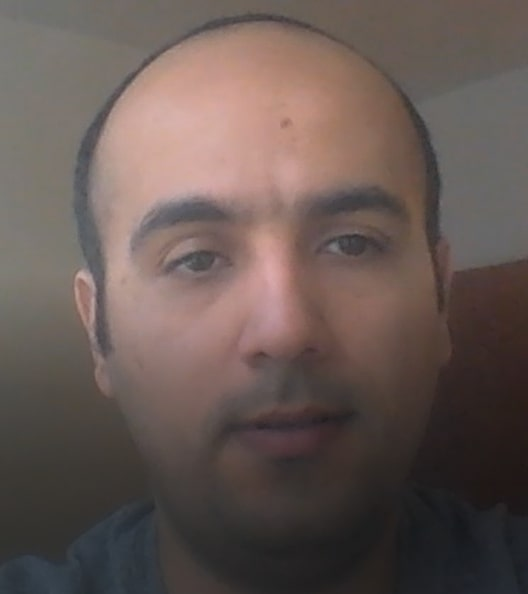Not Sleeping: (127, 185, 422, 313)
